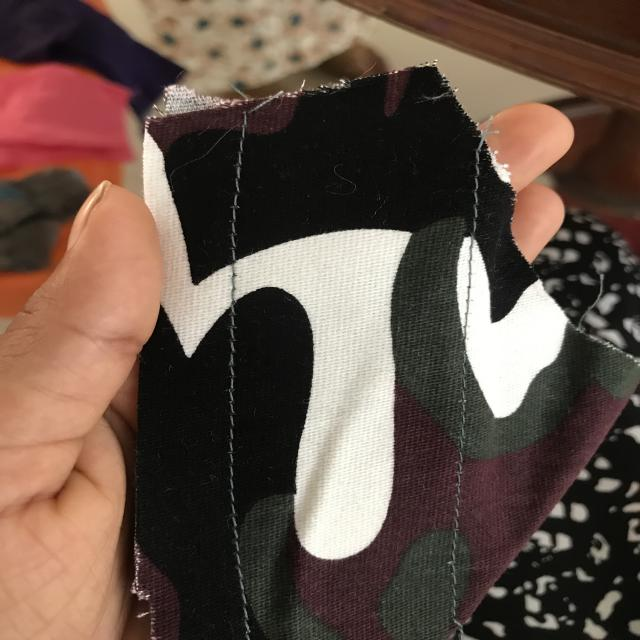good: (208, 402, 262, 506)
